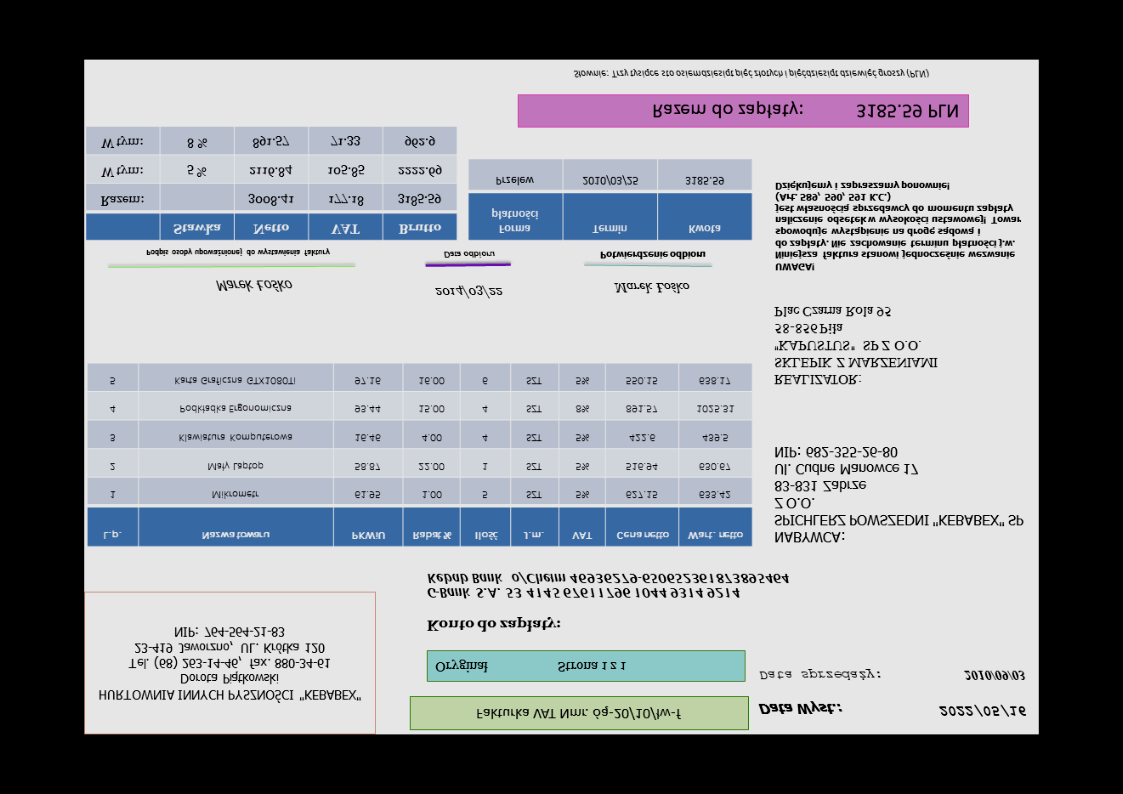Table: (86, 362, 753, 547), (85, 125, 459, 241), (467, 158, 753, 241)
TextBox: (771, 444, 1026, 545), (772, 179, 1023, 275), (97, 622, 364, 704), (772, 304, 941, 388), (424, 569, 791, 601), (650, 99, 961, 122), (571, 65, 932, 82), (474, 705, 682, 723), (434, 659, 628, 675), (423, 615, 564, 636), (142, 246, 333, 260), (757, 668, 882, 683), (935, 702, 1027, 720), (598, 248, 709, 262), (756, 701, 845, 718), (214, 278, 294, 295), (432, 282, 506, 300), (612, 279, 691, 295), (961, 669, 1025, 683), (440, 248, 496, 262)
